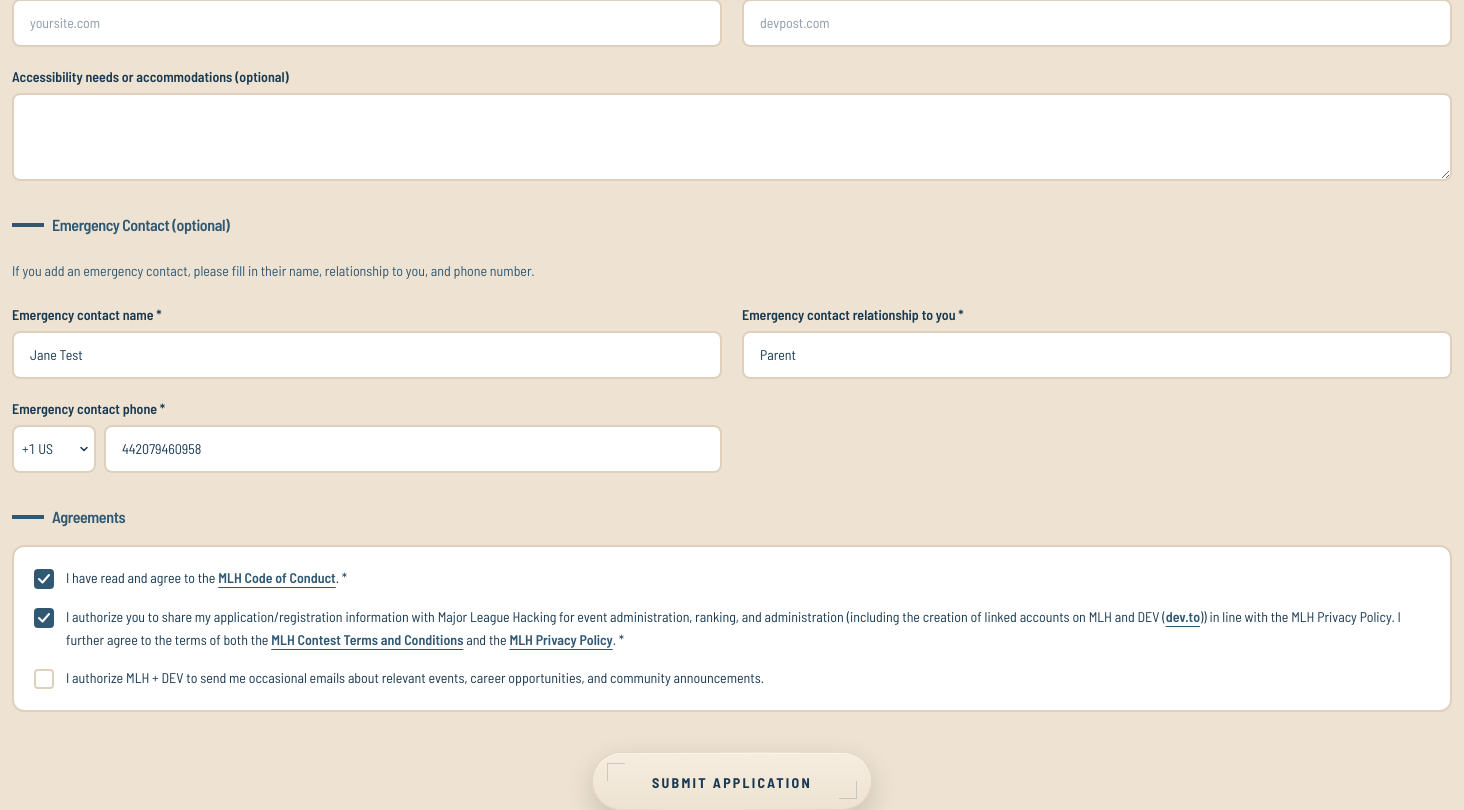
Test case: ApplicationForm submission failures and recovery › aborts submission when the final draft save fails
This screenshot has width=1464, height=810.
(page scrolled)
Click the button "Submit application" at (732, 781), box [592,752,872,809]
(page scrolled)
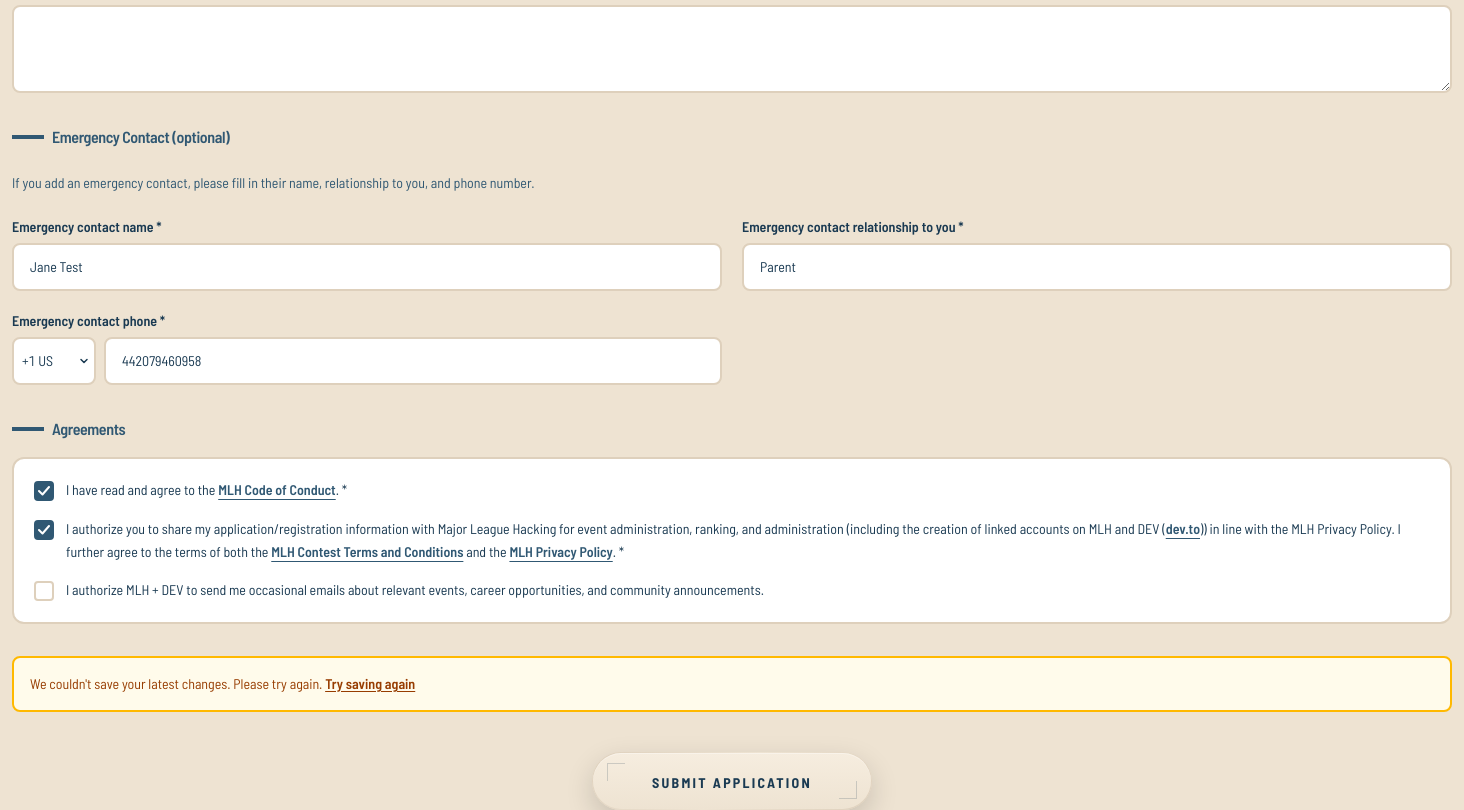
Check: the text "We couldn't save your latest changes. Please try again." is shown, box [30,675,322,692]
